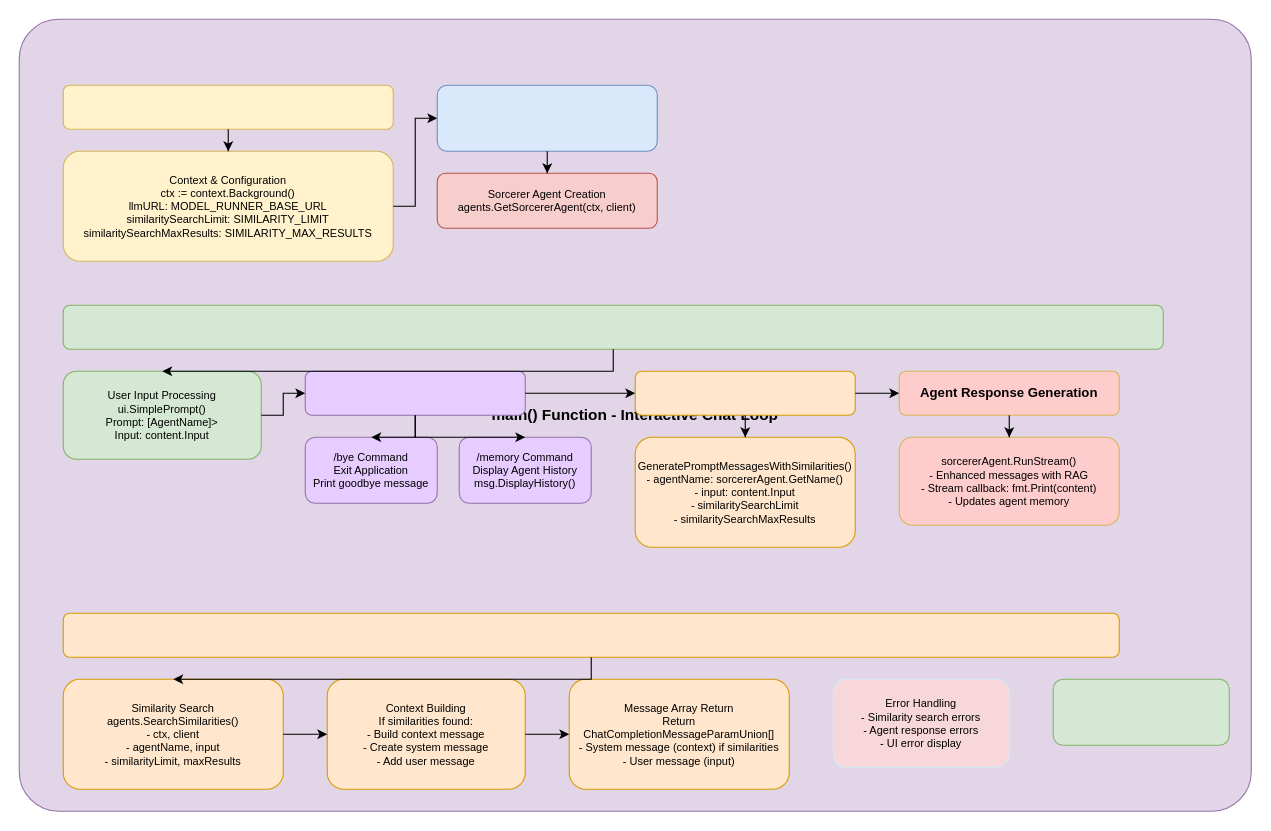
The diagram is 1271 pixels wide and 831 high, and some of its shapes have lost their labels. Each missing label, with the centre of its shape:
"Command Processing" goes at (x=414, y=392).
"GeneratePromptMessagesWithSimilarities Function" goes at (x=590, y=634).
"Initialization" goes at (x=227, y=106).
"Interactive Chat Loop" goes at (x=612, y=326).
"Loop Continuation Print newlines Continue to next iteration" goes at (x=1140, y=711).
"OpenAI Client Setup Base URL: llmURL API Key: empty" goes at (x=546, y=117).
"RAG Processing" goes at (x=744, y=392).
